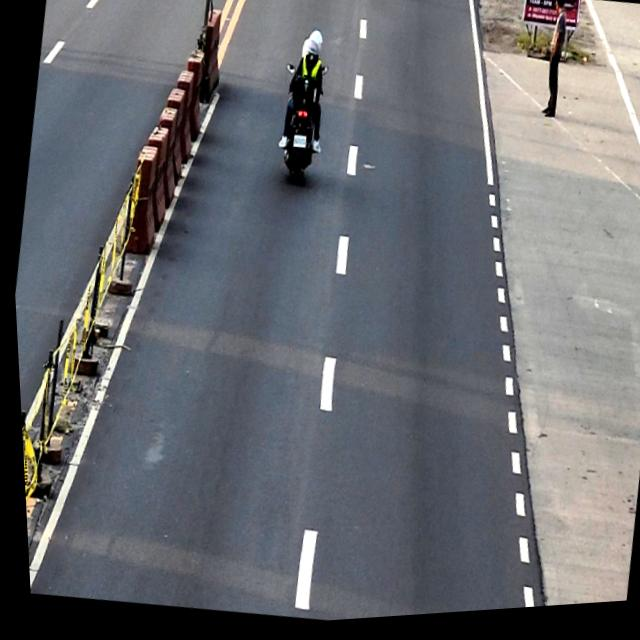License-Plate: (290, 138, 306, 153)
Motorcycle: (267, 64, 332, 193)
